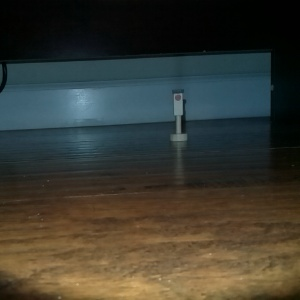traffic light red: (169, 87, 188, 143)
